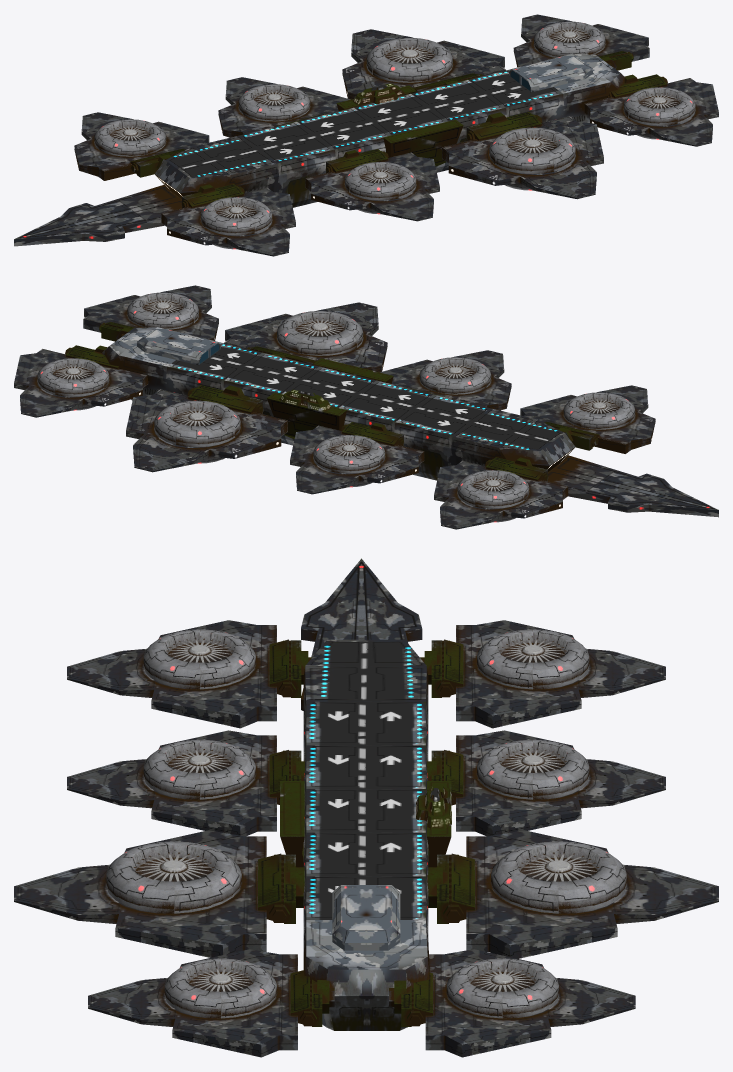
The picture shows the model from 3 angles, top to bottom: view 1: azimuth 30°, elevation 25°; view 2: azimuth 150°, elevation 25°; view 3: azimuth 270°, elevation 25°; orthographic projection. The views are drawn at different scales.
Visible parts, largest first — view 1: Wing_Mount.350, Wing_Mount.301, Wing_Mount.272, Wing_Mount.039, Wing_Mount.010, Wing_Mount.197, Wing_Mount.247, Wing_Mount.171, Wing_Mount.326, Wing_Mount.021, Wing_Mount.011, Wing_Mount.222 (+40 smaller); view 2: Wing_Mount.197, Wing_Mount.247, Wing_Mount.222, Wing_Mount.010, Wing_Mount.172, Wing_Mount.350, Wing_Mount.272, Wing_Mount.006, Wing_Mount.326, Wing_Mount.021, Wing_Mount.011, Wing_Mount.301 (+41 smaller); view 3: Wing_Mount.197, Wing_Mount.350, Wing_Mount.247, Wing_Mount.272, Wing_Mount.039, Wing_Mount.172, Wing_Mount.301, Wing_Mount.222, Wing_Mount.324, Wing_Mount.010, Wing_Mount.021, Wing_Mount.011 (+50 smaller).
Boxes of the visible parts, left/top/right/bottom form: Wing_Mount.350: left=442, top=116, right=603, bottom=199; Wing_Mount.301: left=305, top=152, right=439, bottom=221; Wing_Mount.272: left=161, top=187, right=295, bottom=256; Wing_Mount.039: left=584, top=78, right=718, bottom=146; Wing_Mount.010: left=240, top=121, right=335, bottom=207; Wing_Mount.197: left=342, top=29, right=505, bottom=99; Wing_Mount.247: left=74, top=112, right=209, bottom=180; Wing_Mount.171: left=14, top=198, right=181, bottom=246; Wing_Mount.326: left=193, top=135, right=278, bottom=192; Wing_Mount.021: left=411, top=80, right=506, bottom=171; Wing_Mount.011: left=297, top=107, right=391, bottom=158; Wing_Mount.222: left=218, top=77, right=350, bottom=137; Wing_Mount.197: left=126, top=389, right=287, bottom=472; Wing_Mount.247: left=434, top=460, right=568, bottom=529; Wing_Mount.222: left=290, top=425, right=424, bottom=494; Wing_Mount.010: left=394, top=394, right=489, bottom=480; Wing_Mount.172: left=14, top=348, right=148, bottom=417; Wing_Mount.350: left=224, top=302, right=387, bottom=372; Wing_Mount.272: left=520, top=385, right=655, bottom=453; Wing_Mount.006: left=548, top=469, right=718, bottom=517; Wing_Mount.326: left=451, top=408, right=537, bottom=465; Wing_Mount.021: left=223, top=352, right=318, bottom=444; Wing_Mount.011: left=339, top=380, right=432, bottom=431; Wing_Mount.301: left=380, top=350, right=511, bottom=410; Wing_Mount.197: left=466, top=830, right=718, bottom=958; Wing_Mount.350: left=14, top=830, right=266, bottom=957; Wing_Mount.247: left=456, top=620, right=665, bottom=728; Wing_Mount.272: left=67, top=620, right=276, bottom=728; Wing_Mount.039: left=88, top=949, right=297, bottom=1057; Wing_Mount.172: left=425, top=949, right=635, bottom=1057; Wing_Mount.301: left=67, top=730, right=276, bottom=836; Wing_Mount.222: left=456, top=730, right=665, bottom=836; Wing_Mount.324: left=303, top=920, right=429, bottom=1030; Wing_Mount.010: left=303, top=701, right=428, bottom=760; Wing_Mount.021: left=303, top=832, right=428, bottom=893; Wing_Mount.011: left=303, top=745, right=428, bottom=798.
Bounding box in the file's own units: 2 × 0.1902 × 1.17.
1 material, 1 textured.
